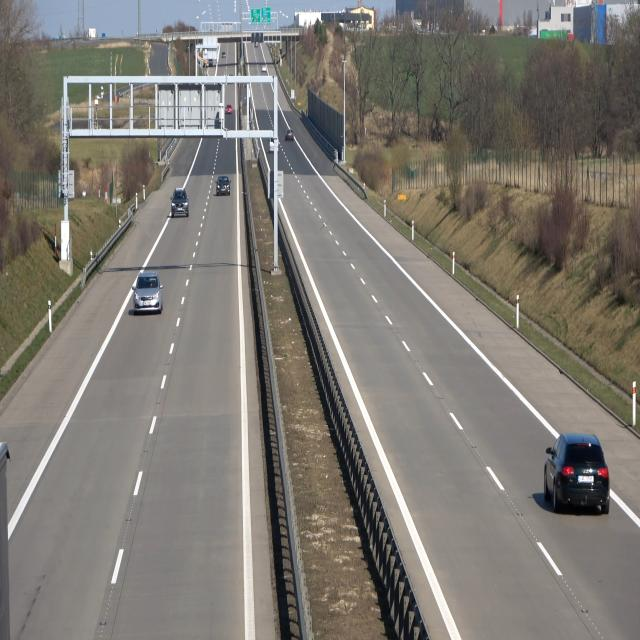Car: (543, 430, 614, 516), (132, 272, 163, 316), (171, 188, 189, 218), (214, 176, 231, 196), (268, 136, 280, 154), (284, 129, 294, 142)
